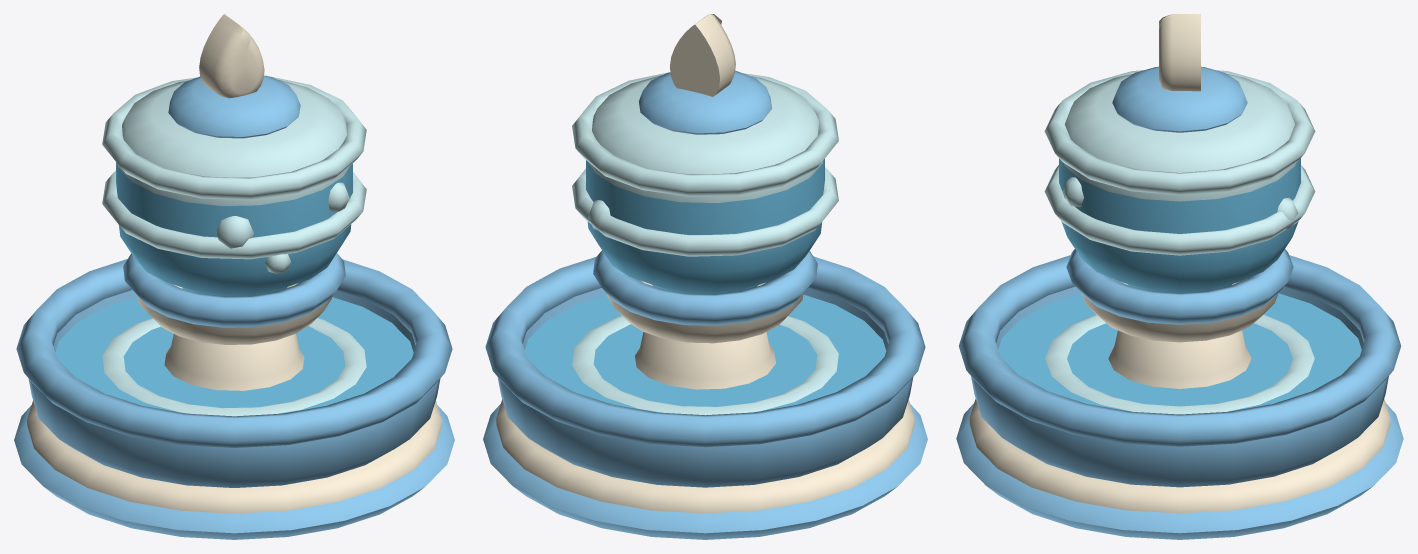
File: ShopWater.fbx
The picture shows the model from 3 angles, left to right: view 1: azimuth 30°, elevation 25°; view 2: azimuth 150°, elevation 25°; view 3: azimuth 270°, elevation 25°; orthographic projection.
Visible parts, largest first — view 1: ShopWater; view 2: ShopWater; view 3: ShopWater.
Boxes of the visible parts, x1,y1,x2,y2 form: ShopWater: (14,14,454,539); ShopWater: (483,14,927,539); ShopWater: (956,14,1403,539).
Bounding box in the file's own units: 0.74 × 0.799 × 0.74.
